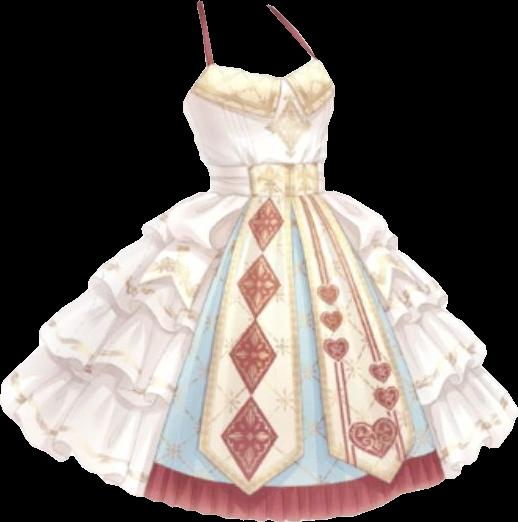Bodice: (183, 0, 334, 200)
Hemline: (0, 200, 248, 498), (319, 198, 517, 485), (141, 476, 444, 521), (36, 330, 171, 409), (81, 277, 197, 340), (423, 357, 486, 406), (138, 222, 221, 257), (388, 289, 450, 330), (356, 228, 399, 252)
Neckline: (200, 0, 316, 85), (205, 155, 325, 171)
Skirt: (0, 188, 517, 521)
Waistline: (207, 186, 329, 204)
